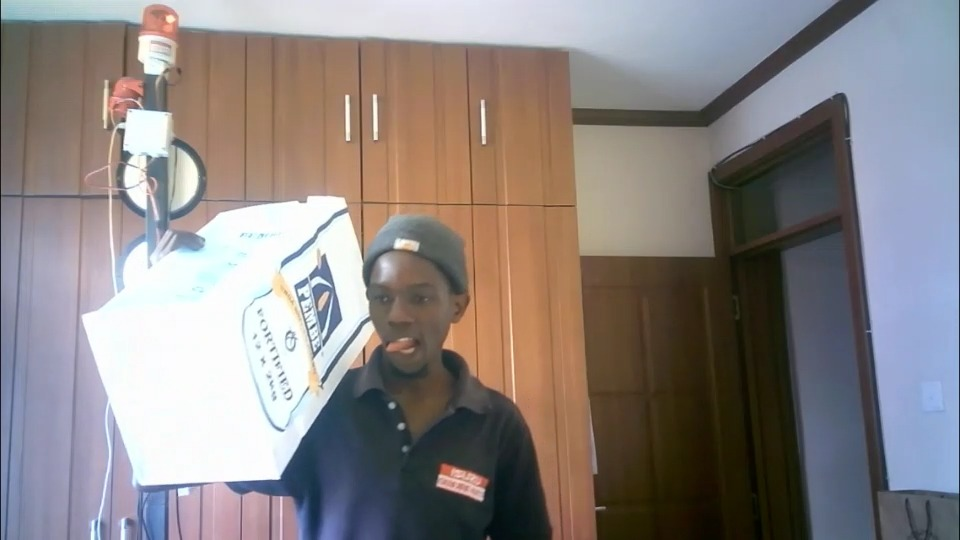wheat_flour_blue_label: (78, 198, 367, 484)
